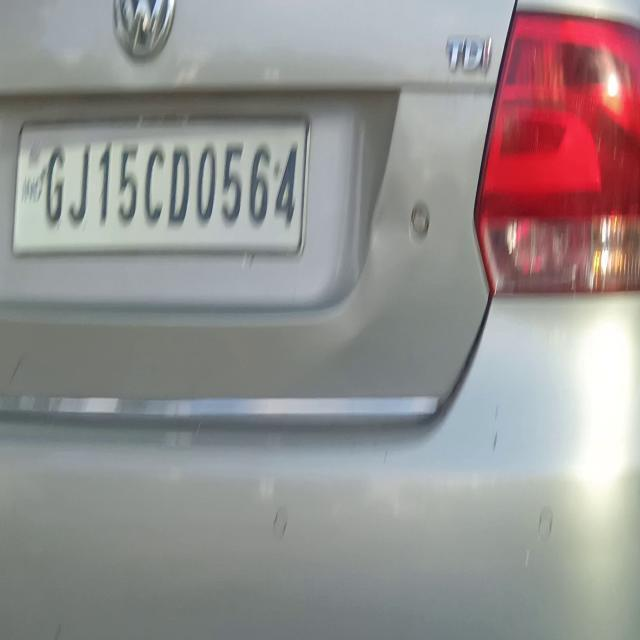number_plate: (15, 120, 308, 260)
